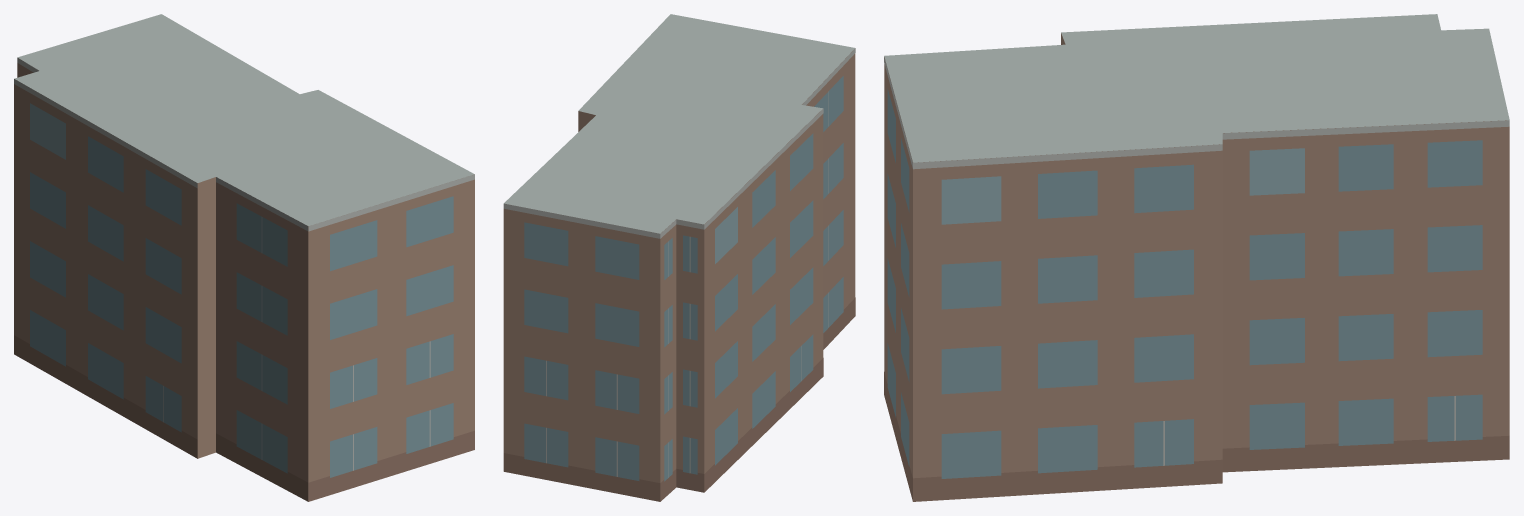
File: survey-upis-33001835.glb
The picture shows the model from 3 angles, left to right: view 1: azimuth 30°, elevation 25°; view 2: azimuth 150°, elevation 25°; view 3: azimuth 270°, elevation 25°; orthographic projection. The views are drawn at different scales.
Visible parts, largest first — view 1: survey-upis-33001835.tmp; view 2: survey-upis-33001835.tmp; view 3: survey-upis-33001835.tmp.
Part boxes in pixels (box(x1,y1,x2,y2)): survey-upis-33001835.tmp: box(14, 14, 474, 501); survey-upis-33001835.tmp: box(503, 14, 855, 501); survey-upis-33001835.tmp: box(884, 14, 1509, 501).
Bounding box in the file's own units: 11.95 × 12.7 × 21.24.
